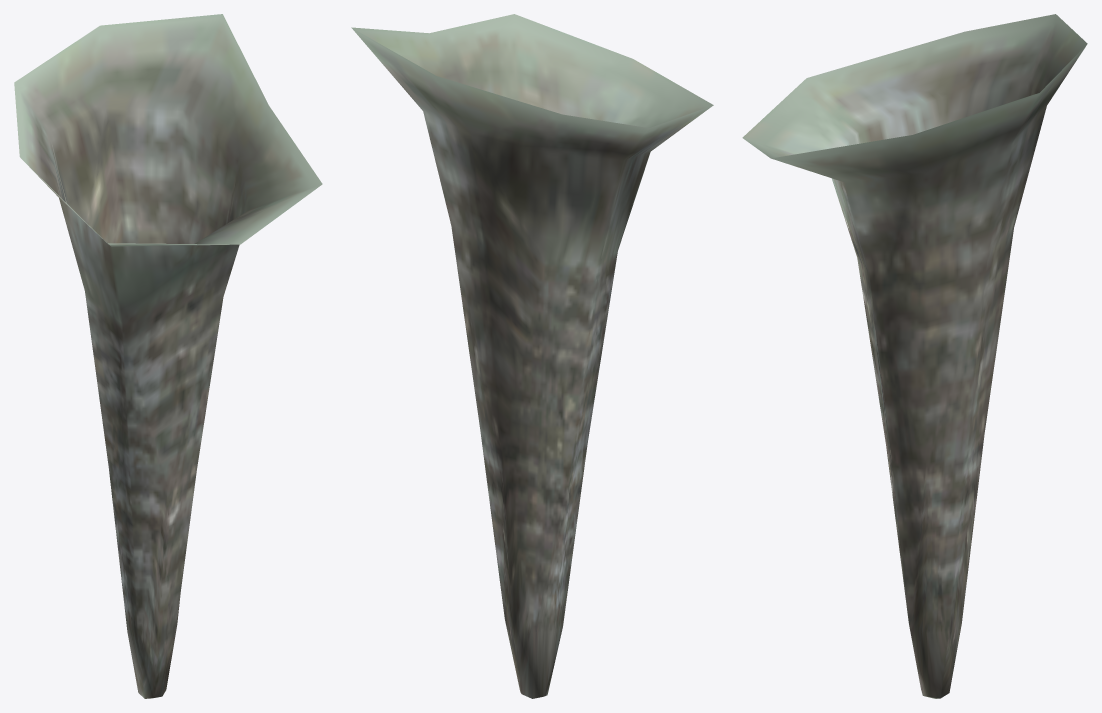
File: TROLLHOLE02_PS-MAINSTALAG33.fbx
3 renders of one model, left to right at view 1: azimuth 30°, elevation 25°; view 2: azimuth 150°, elevation 25°; view 3: azimuth 270°, elevation 25°, orthographic. The views are drawn at different scales.
Parts seen in each view (by area): view 1: TROLLHOLE02_PS-MAINSTALAG33; view 2: TROLLHOLE02_PS-MAINSTALAG33; view 3: TROLLHOLE02_PS-MAINSTALAG33.
Boxes of the visible parts, x1,y1,x2,y2 form: TROLLHOLE02_PS-MAINSTALAG33: [14, 14, 322, 698]; TROLLHOLE02_PS-MAINSTALAG33: [351, 14, 713, 698]; TROLLHOLE02_PS-MAINSTALAG33: [742, 14, 1087, 698].
Size of the model in its own units: 8786 by 21882 by 10247.
1 material, 1 textured.
